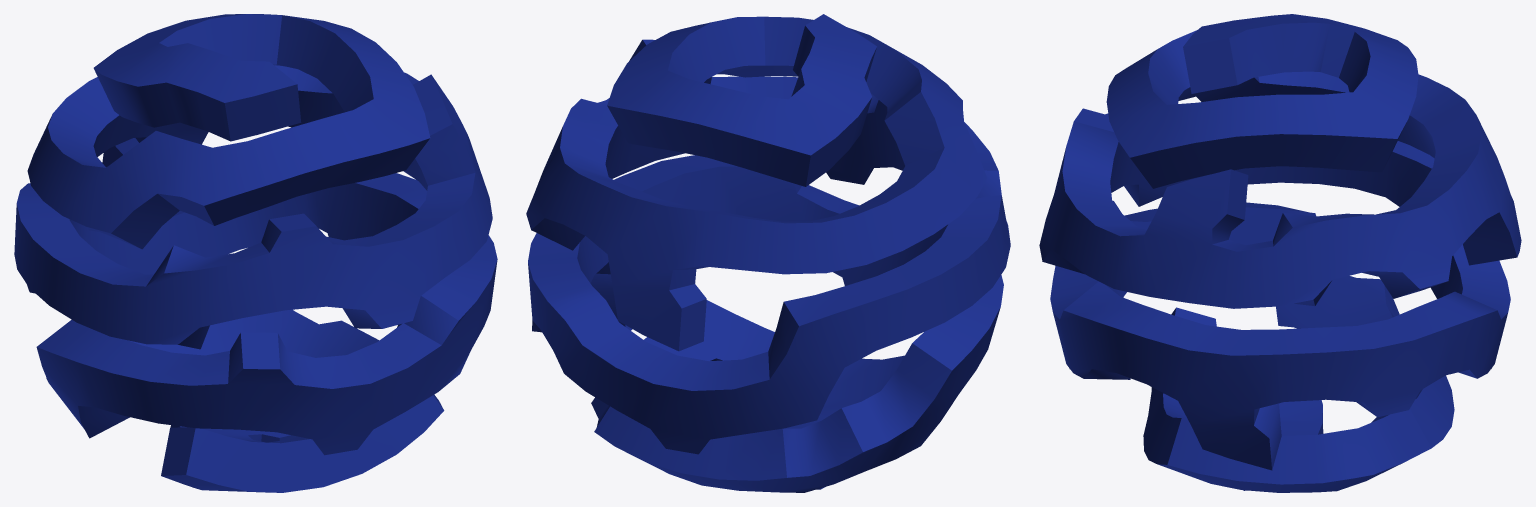
The model's file is testworld_mazepipe.FBX.
3 views of the same model, side by side, from view 1: azimuth 30°, elevation 25°; view 2: azimuth 150°, elevation 25°; view 3: azimuth 270°, elevation 25° (orthographic).
Parts seen in each view (by area): view 1: mazepipes; view 2: mazepipes; view 3: mazepipes.
Part boxes in pixels (<box>): mazepipes: <box>14,14,497,492</box>; mazepipes: <box>526,14,1010,492</box>; mazepipes: <box>1039,14,1521,492</box>.
Bounding box in the file's own units: 1871 × 1868 × 1916.
